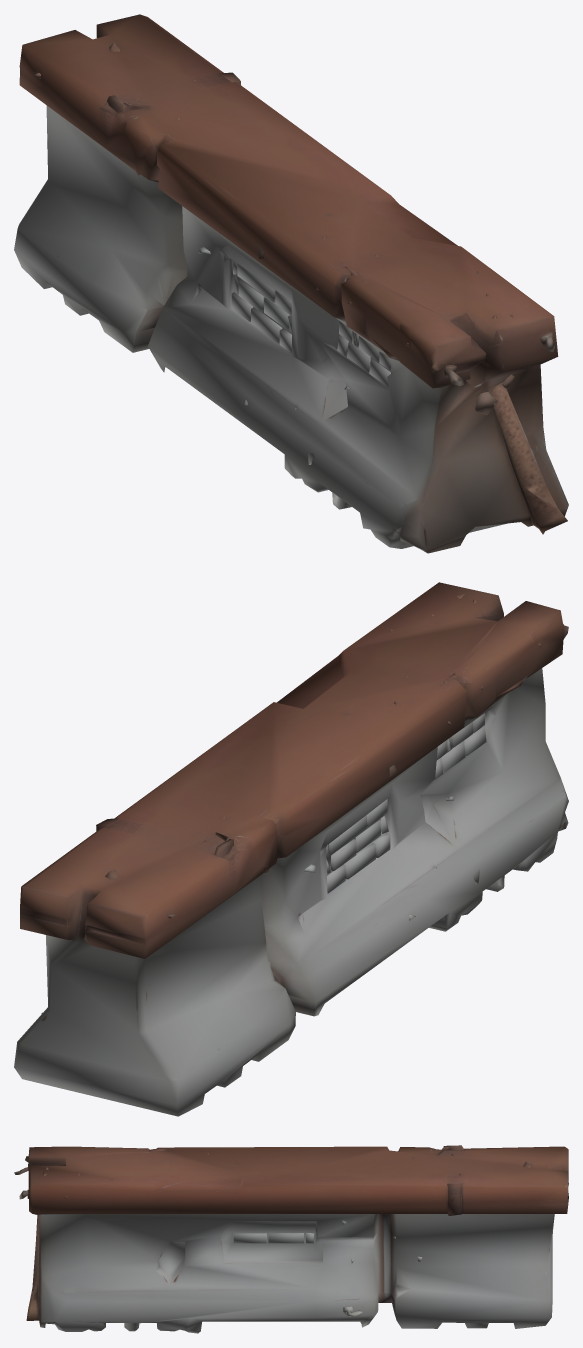
Rendered from concrete_barrier.glb.
3 views of the same model, one above another, from view 1: azimuth 30°, elevation 25°; view 2: azimuth 150°, elevation 25°; view 3: azimuth 270°, elevation 25° (orthographic). The views are drawn at different scales.
Parts seen in each view (by area): view 1: concrete_barrier_LOD0; view 2: concrete_barrier_LOD0; view 3: concrete_barrier_LOD0.
Boxes of the visible parts, x1,y1,x2,y2 form: concrete_barrier_LOD0: (14, 14, 568, 553); concrete_barrier_LOD0: (14, 582, 568, 1116); concrete_barrier_LOD0: (14, 1145, 568, 1333).
Size of what is drawn, in the model's own units: 0.502 by 0.5899 by 2.
Materials: 1 (1 with a texture image).
